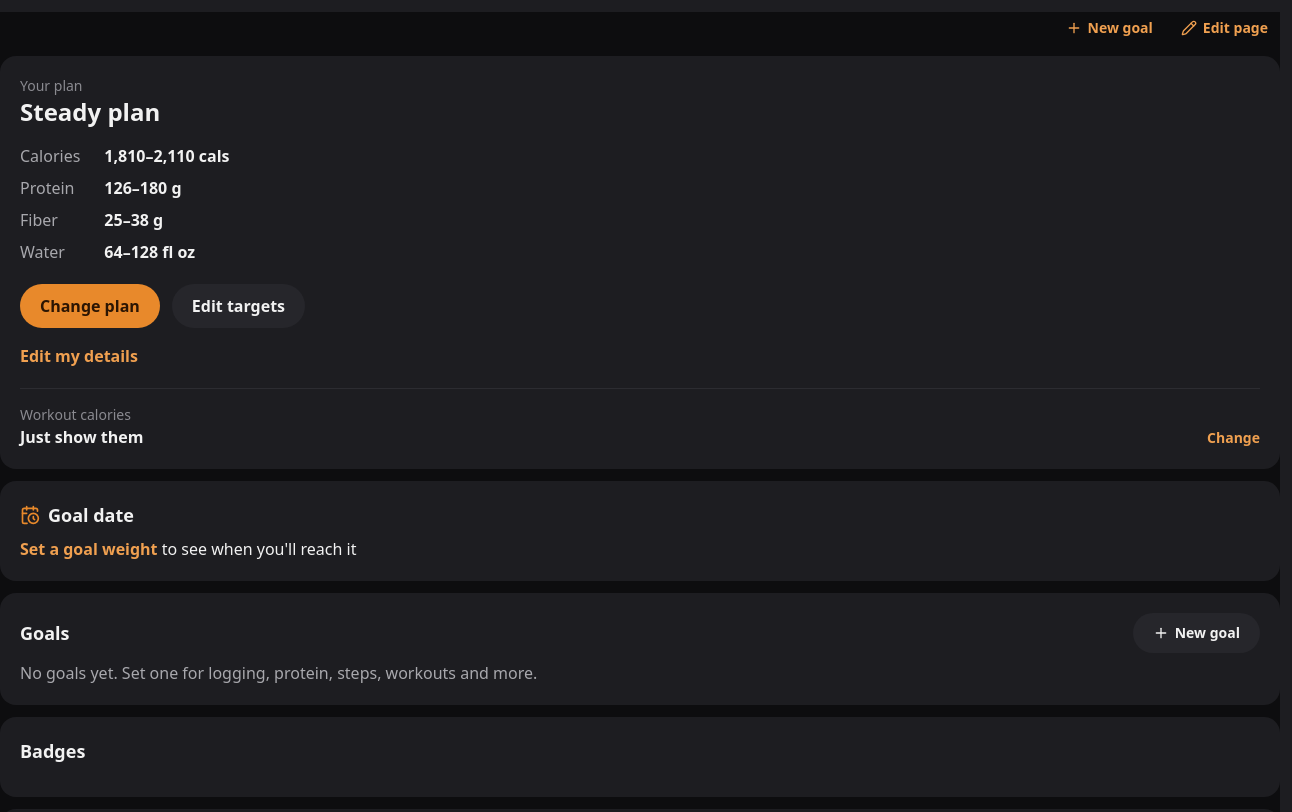
Test case: Goals › #/goals/details, and the goal date's Set a goal weight link, open Edit my details
Click the link "Set a goal weight". click: (89, 549)
box: x1=20 y1=538 x2=158 y2=560
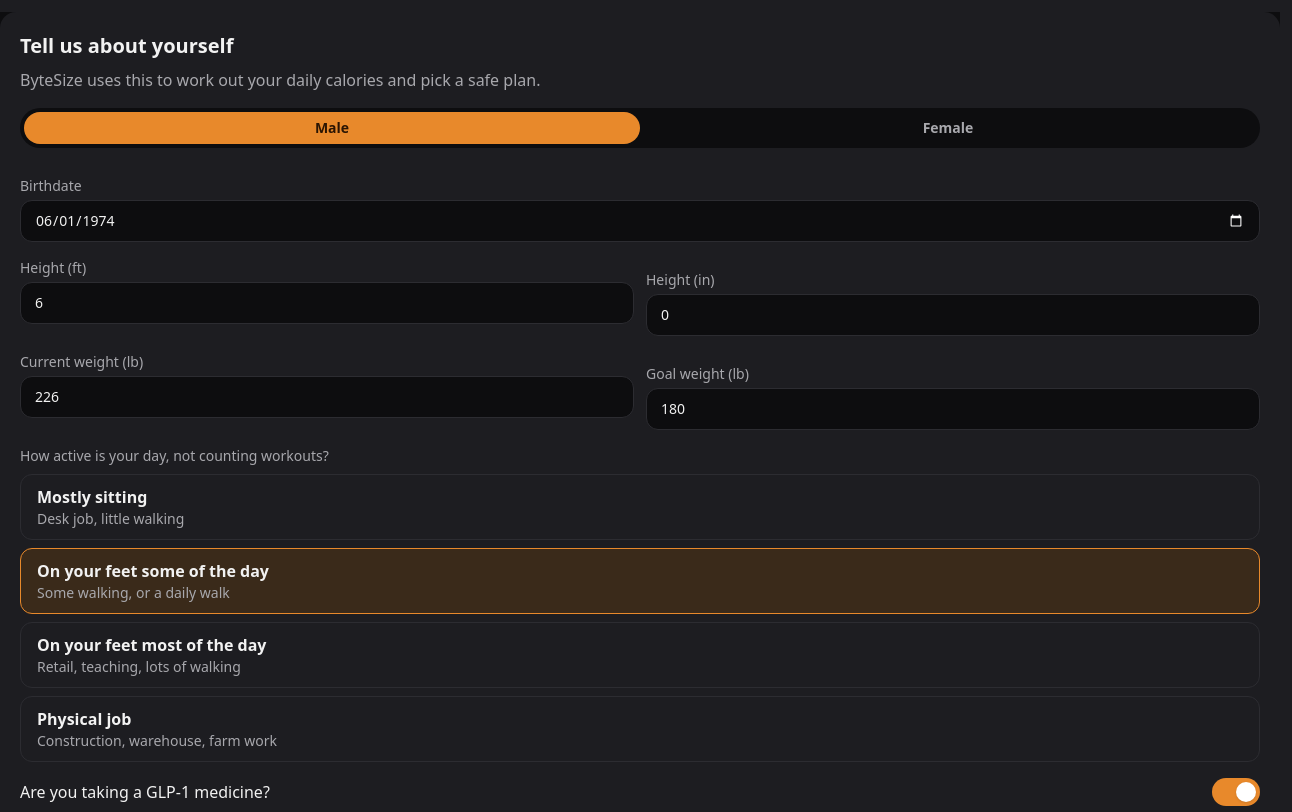
Check: the heading "Tell us about yourself" is shown, box x1=20 y1=32 x2=233 y2=59
